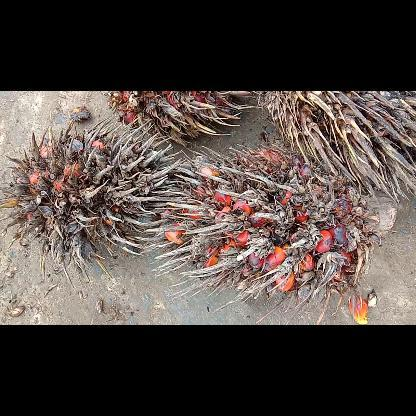Terlalu masak: (138, 142, 400, 324), (0, 115, 185, 292), (96, 90, 258, 154)
